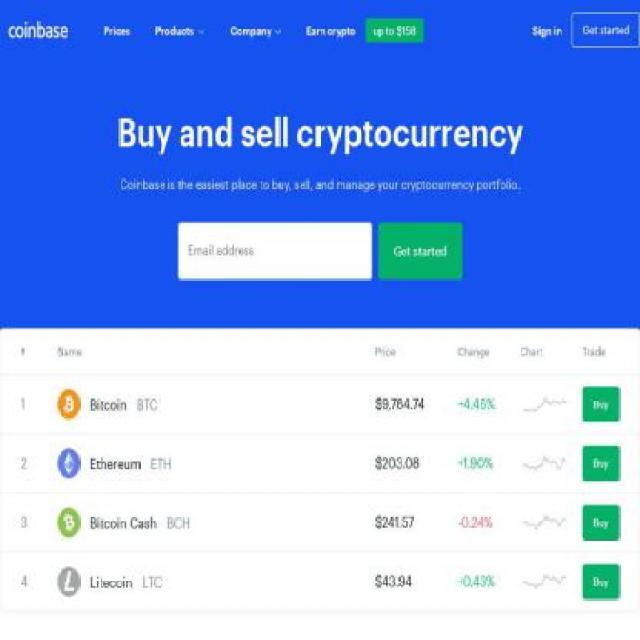button: (378, 222, 462, 280), (572, 12, 639, 50), (327, 632, 639, 639), (0, 19, 89, 41), (355, 18, 423, 42), (582, 386, 620, 422), (582, 445, 620, 481), (582, 505, 620, 540), (582, 564, 620, 599), (229, 25, 282, 37), (154, 25, 206, 37), (306, 25, 356, 37), (532, 25, 562, 37), (103, 25, 131, 37)
field: (177, 222, 372, 280)
